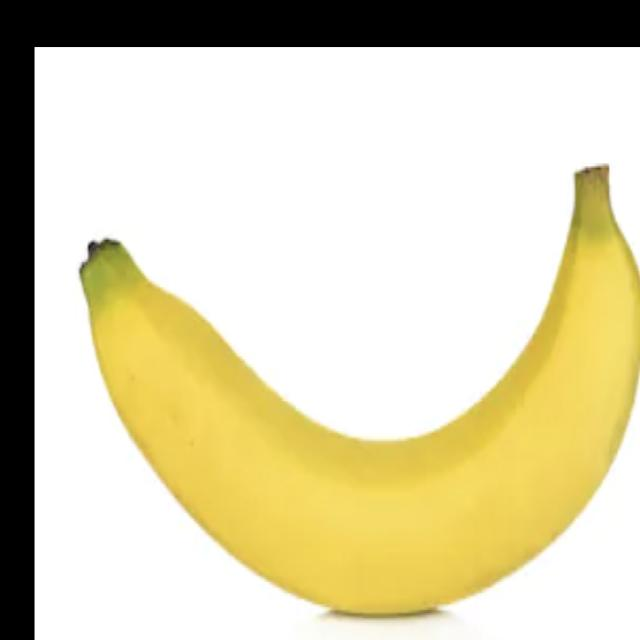Ripe: (59, 127, 640, 623)
